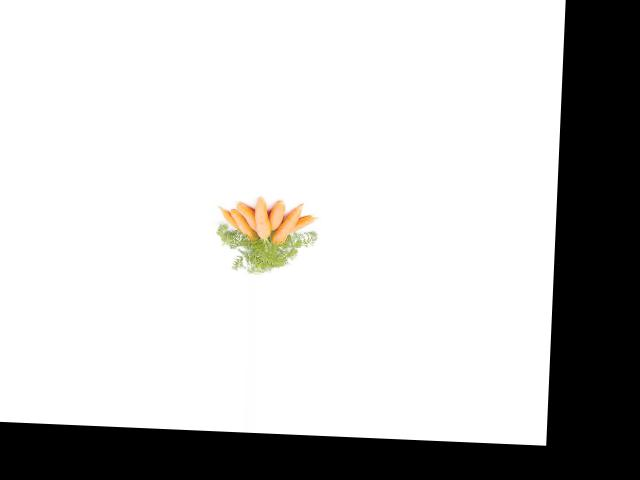carrot: (283, 210, 316, 236)
